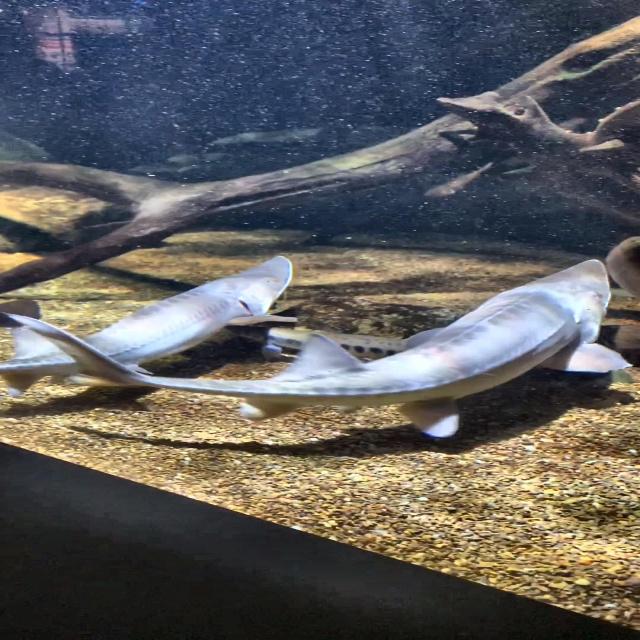shark: (0, 258, 636, 441), (0, 253, 303, 401)
